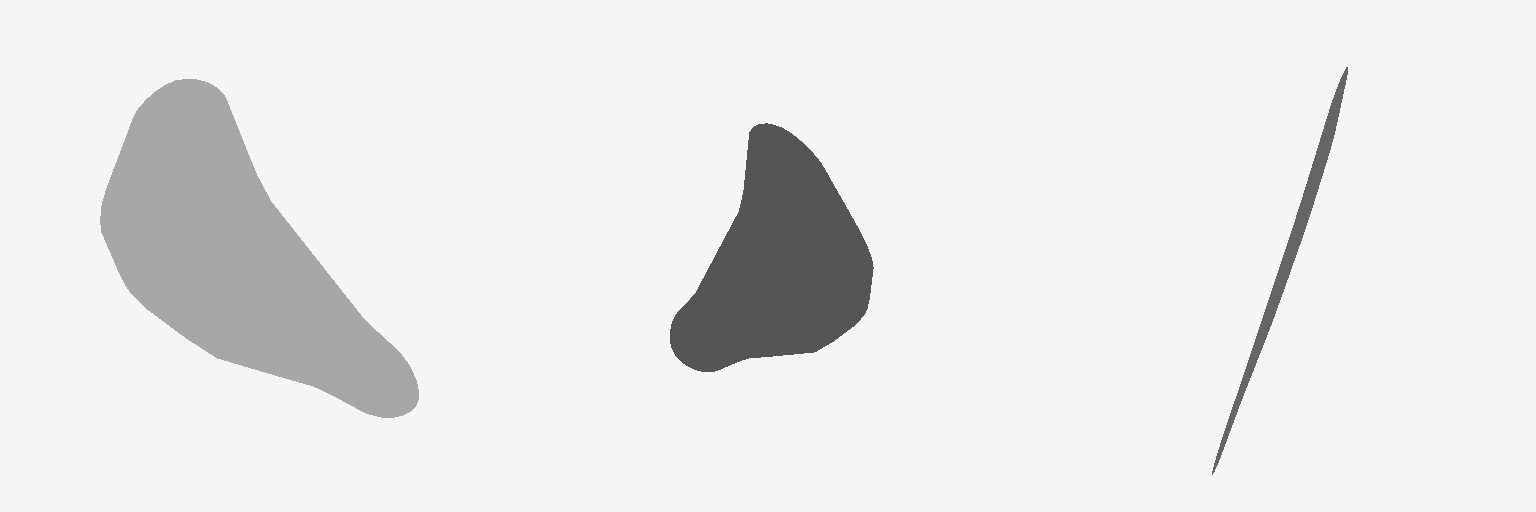
The model's file is hearttest2.obj.
The picture shows the model from 3 angles: view 1: azimuth 30°, elevation 25°; view 2: azimuth 150°, elevation 25°; view 3: azimuth 270°, elevation 25°; orthographic projection.
Parts seen in each view (by area): view 1: greenHighlight_nurbToPoly Heart_New; view 2: greenHighlight_nurbToPoly Heart_New; view 3: greenHighlight_nurbToPoly Heart_New.
Boxes of the visible parts, x1=… form: greenHighlight_nurbToPoly Heart_New: x1=100, y1=79, x2=418, y2=417; greenHighlight_nurbToPoly Heart_New: x1=670, y1=123, x2=873, y2=371; greenHighlight_nurbToPoly Heart_New: x1=1212, y1=67, x2=1347, y2=474.
Size of the model in its own units: 4.73 by 5.67 by 2.14.